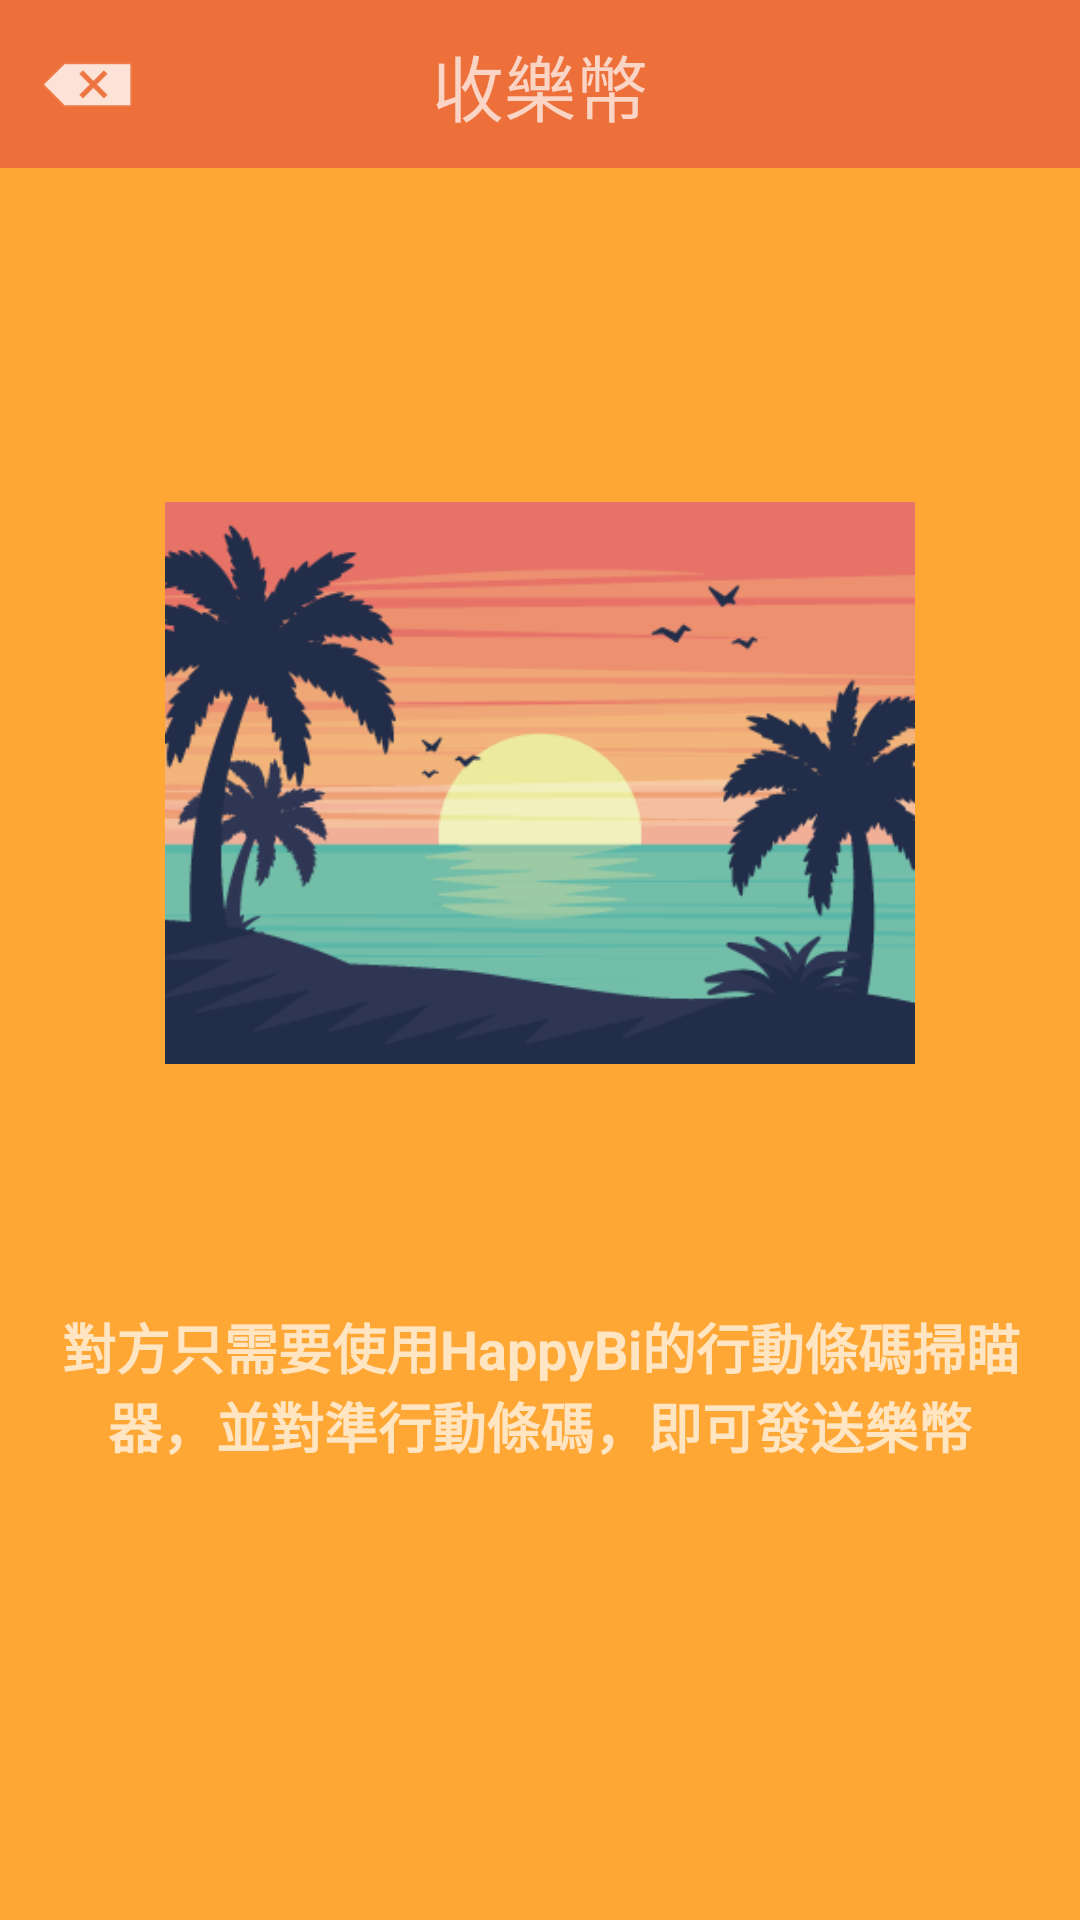

Where to tap for icons on this 1080x1920 app screen, as (x,y):
delete: (87,85)
